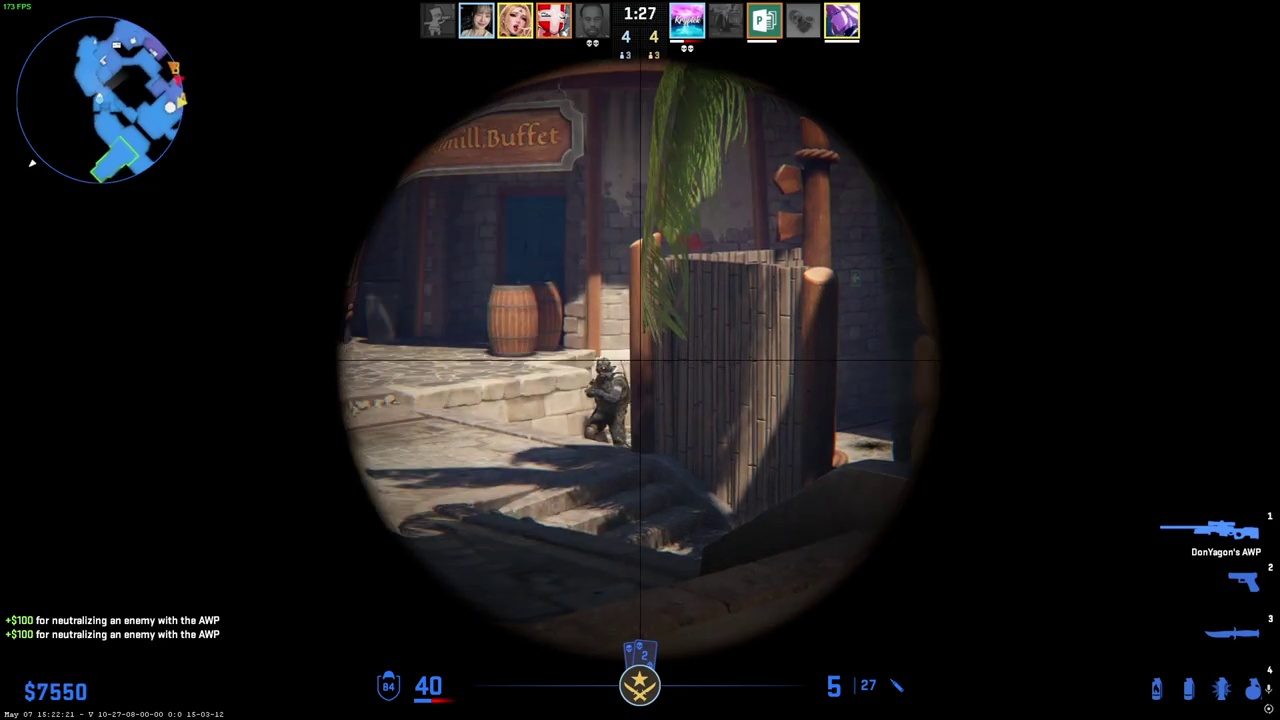CT: (584, 357, 629, 445)
